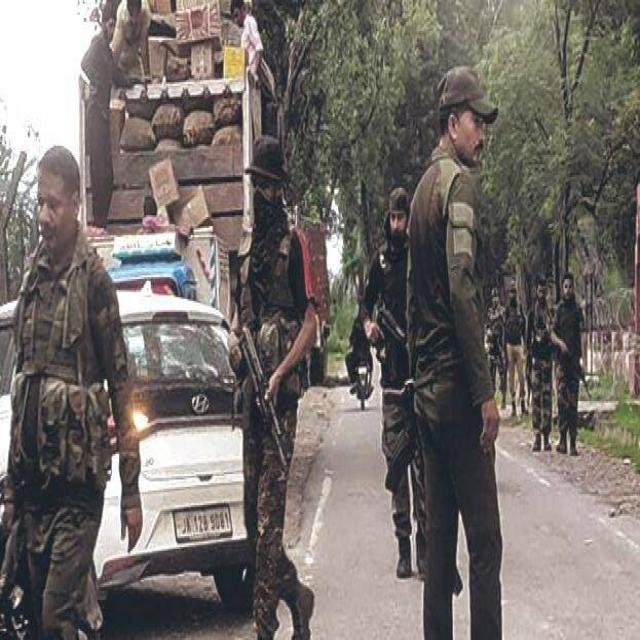plate: (169, 496, 235, 552)
